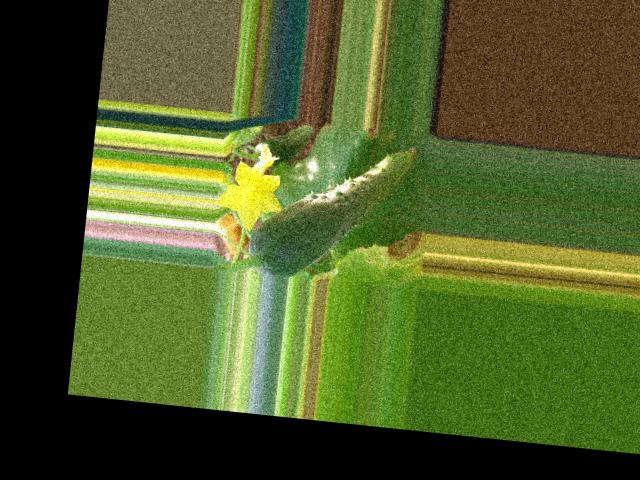cucumber: (245, 130, 417, 289)
